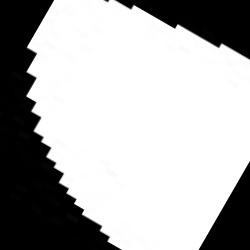spot: (27, 2, 248, 248)
